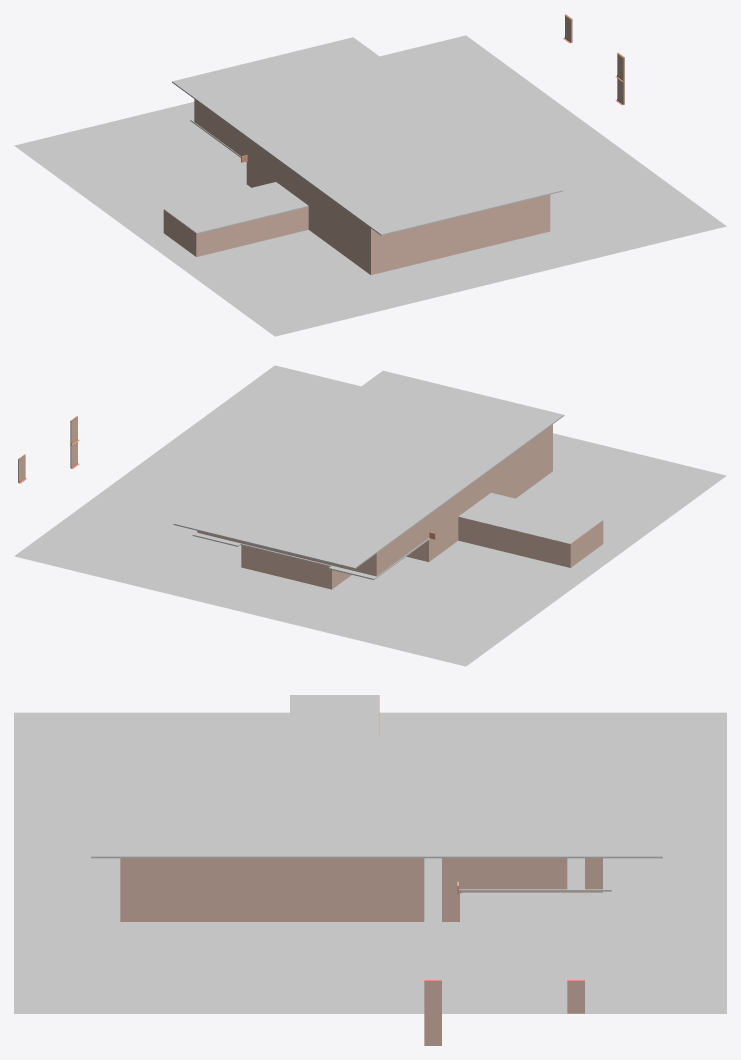
The model's file is GalleryWorld.glb.
3 renders of one model, top to bottom at view 1: azimuth 30°, elevation 25°; view 2: azimuth 150°, elevation 25°; view 3: azimuth 270°, elevation 25°, orthographic. The views are drawn at different scales.
Parts seen in each view (by area): view 1: _Ground, Cube.002, Cube, WallBig1.085; view 2: _Ground, Cube.002, Cube, Cube.001; view 3: _Ground, Cube.002, Cube, Cube.001, WallBig1.041, WallBig1.042, WallBig1.044, WallBig1.049, WallBig1.052, WallBig1.053, WallBig1.008, WallBig1.085 (+38 smaller).
Boxes of the visible parts, <box> form: _Ground: <box>14,35,726,336</box>; Cube.002: <box>172,37,562,235</box>; Cube: <box>164,182,308,233</box>; WallBig1.085: <box>529,208,550,236</box>; _Ground: <box>14,365,726,666</box>; Cube.002: <box>173,370,564,568</box>; Cube: <box>458,492,602,543</box>; Cube.001: <box>192,532,430,579</box>; _Ground: <box>14,712,726,1013</box>; Cube.002: <box>91,736,662,858</box>; Cube: <box>290,695,379,735</box>; Cube.001: <box>459,858,611,891</box>; WallBig1.041: <box>388,889,406,921</box>; WallBig1.042: <box>406,889,424,921</box>; WallBig1.044: <box>352,889,370,921</box>; WallBig1.049: <box>263,889,281,921</box>; WallBig1.052: <box>209,889,227,921</box>; WallBig1.053: <box>227,889,245,921</box>; WallBig1.008: <box>138,889,156,921</box>; WallBig1.085: <box>120,889,138,921</box>.
Size of the model in its own units: 88.28 by 8.2 by 79.8.
240 materials, 240 textured.
